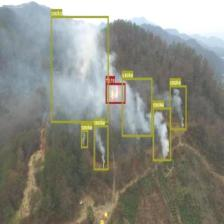fire: (105, 83, 125, 103)
smoke: (50, 16, 109, 122), (122, 78, 152, 136), (152, 107, 171, 161), (169, 85, 186, 130), (94, 124, 108, 170), (81, 130, 88, 148)
